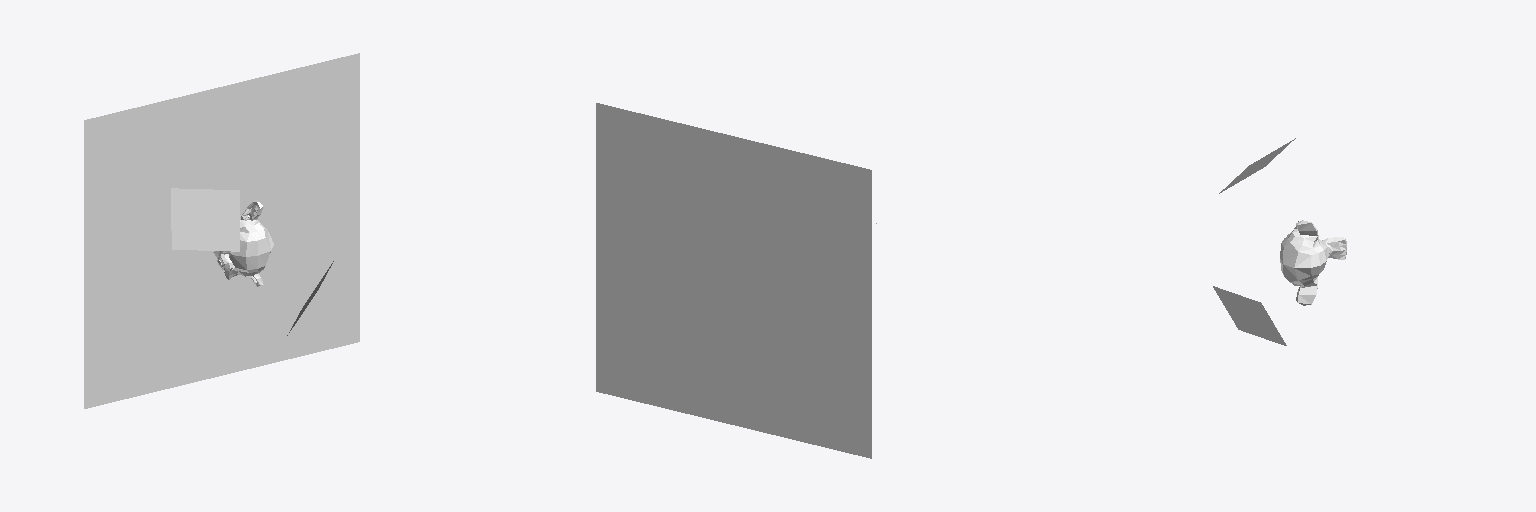
Rendered from monkey.obj.
3 renders of one model, left to right at view 1: azimuth 30°, elevation 25°; view 2: azimuth 150°, elevation 25°; view 3: azimuth 270°, elevation 25°, orthographic.
Visible parts, largest first — view 1: Plane, Plane.002, Suzanne; view 2: Plane; view 3: Suzanne, Plane.001.
Part boxes in pixels (x1,y1,x2,y2): Plane: (84, 53, 359, 408); Plane.002: (171, 188, 239, 251); Suzanne: (213, 200, 273, 286); Plane: (596, 103, 871, 458); Suzanne: (1280, 220, 1346, 305); Plane.001: (1213, 286, 1286, 345).
Size of the model in its own units: 9.28 by 9.28 by 3.95.